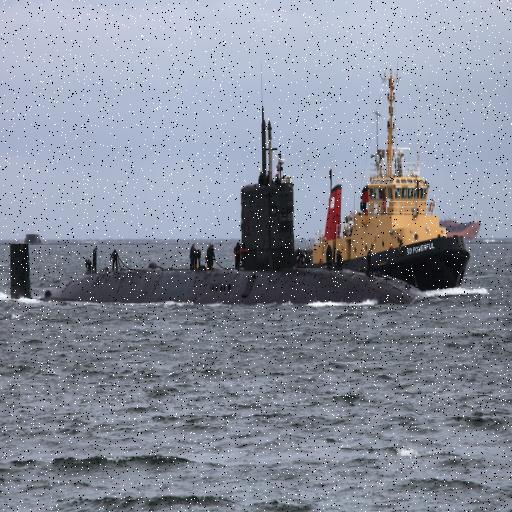submarine: (11, 126, 424, 305)
